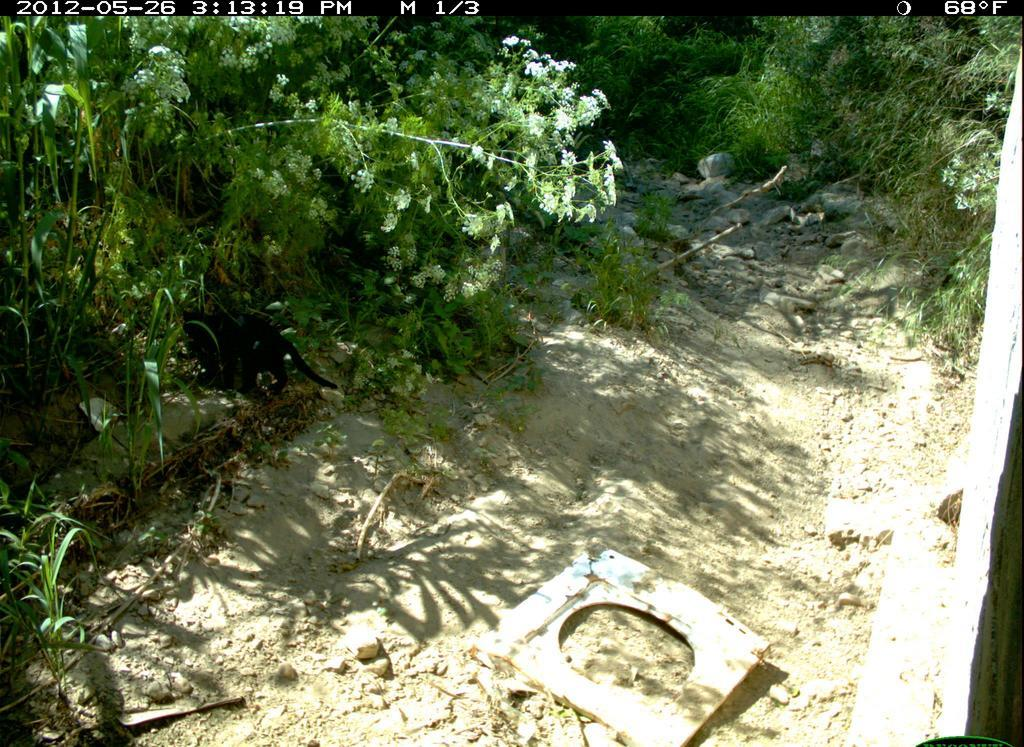cat: (172, 299, 344, 410)
